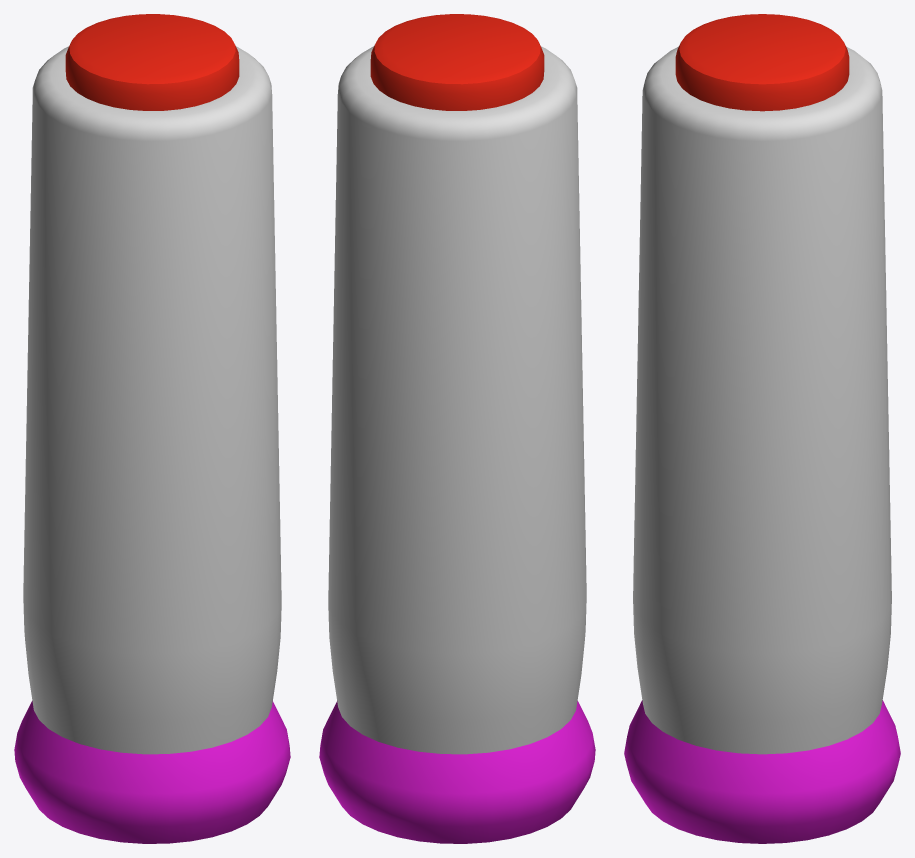
File: Podest.fbx
3 renders of one model, left to right at view 1: azimuth 30°, elevation 25°; view 2: azimuth 150°, elevation 25°; view 3: azimuth 270°, elevation 25°, orthographic.
Visible parts, largest first — view 1: Circle; view 2: Circle; view 3: Circle.
Boxes of the visible parts, x1,y1,x2,y2 form: Circle: (14, 14, 290, 843); Circle: (319, 14, 595, 843); Circle: (624, 14, 900, 843).
Size of the model in its own units: 231 by 690 by 231.
